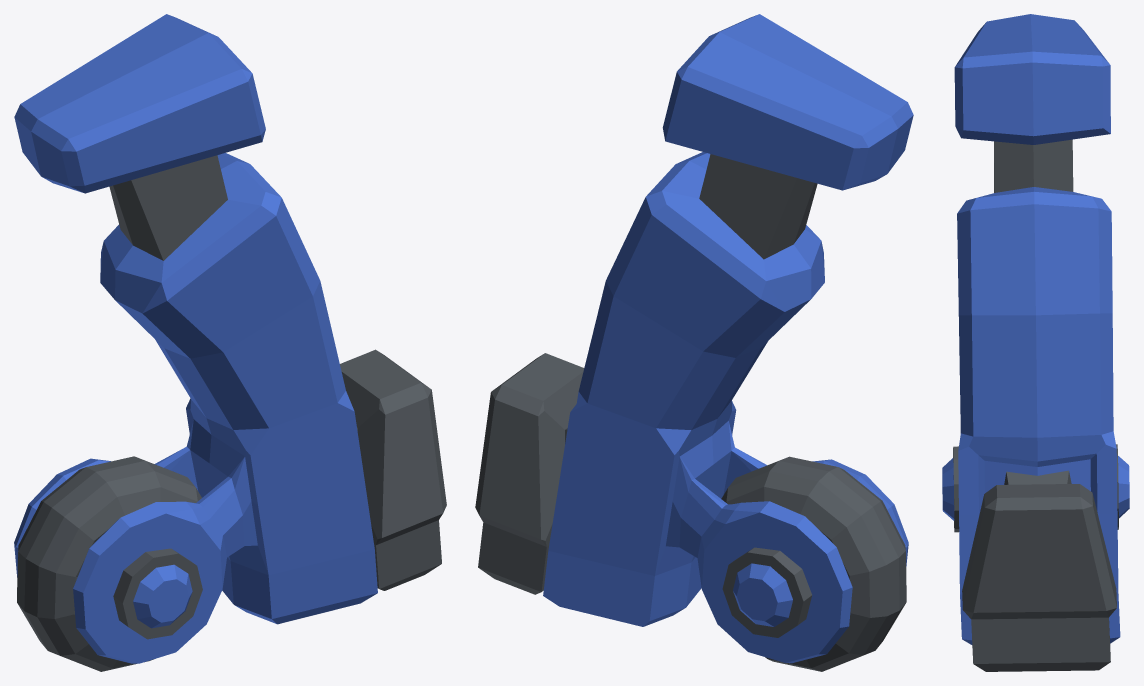
Rendered from Dropship_01_Lander_Blue.fbx.
3 views of the same model, side by side, from view 1: azimuth 30°, elevation 25°; view 2: azimuth 150°, elevation 25°; view 3: azimuth 270°, elevation 25° (orthographic). The views are drawn at different scales.
Visible parts, largest first — view 1: Dropship_01_Lander_Blue; view 2: Dropship_01_Lander_Blue; view 3: Dropship_01_Lander_Blue.
Boxes of the visible parts, x1,y1,x2,y2 form: Dropship_01_Lander_Blue: [14, 14, 446, 671]; Dropship_01_Lander_Blue: [475, 14, 913, 671]; Dropship_01_Lander_Blue: [942, 14, 1129, 671].
Size of the model in its own units: 269 by 402 by 120.
Materials: 1 (1 with a texture image).
